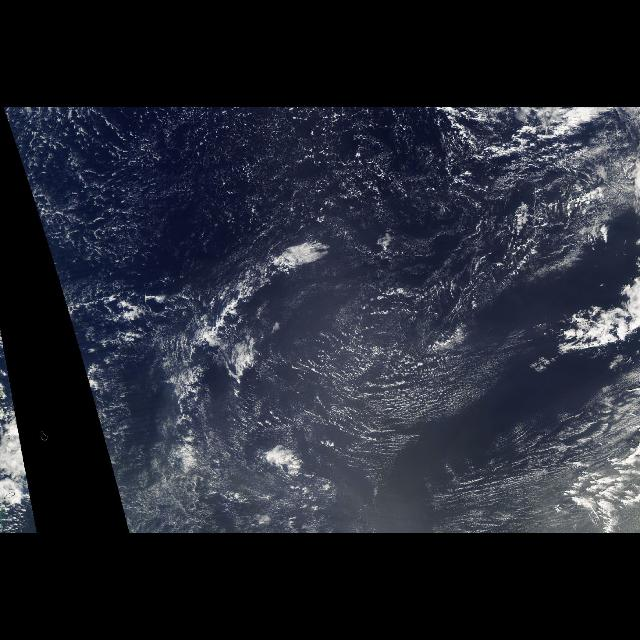Gravel: (3, 108, 441, 282)
Sugar: (51, 112, 589, 534)
